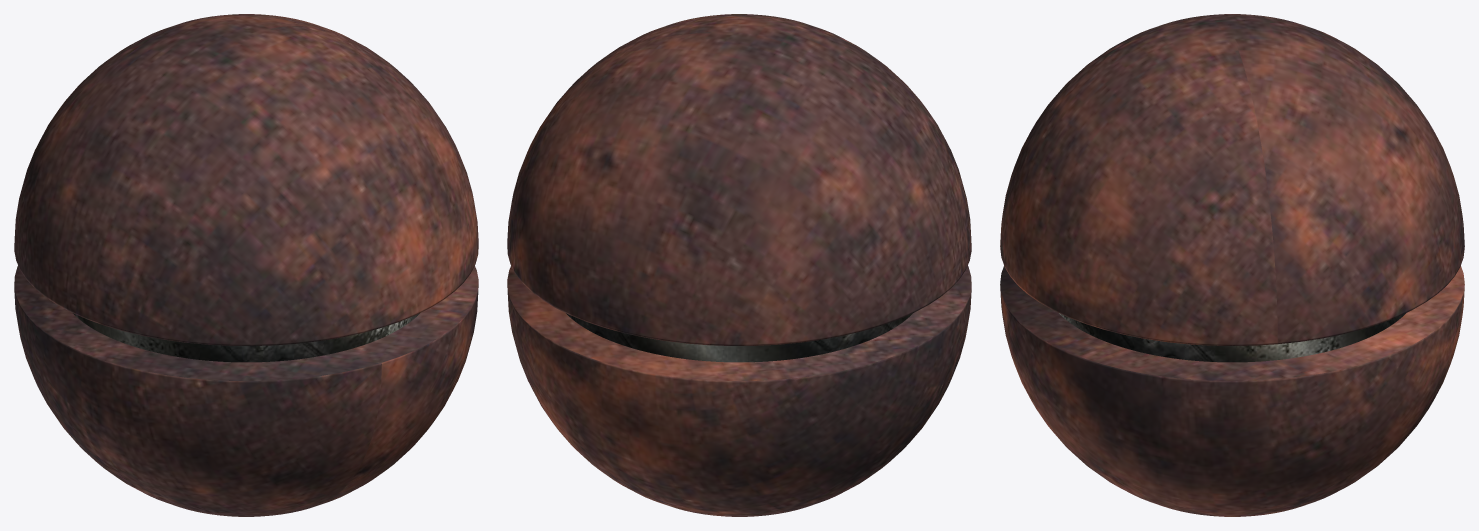
The model's file is droid_anim_000007.obj.
3 views of the same model, side by side, from view 1: azimuth 30°, elevation 25°; view 2: azimuth 150°, elevation 25°; view 3: azimuth 270°, elevation 25° (orthographic).
Visible parts, largest first — view 1: Sphere.004, Sphere.005, Cylinder.002; view 2: Sphere.004, Sphere.005, Cylinder.002; view 3: Sphere.004, Sphere.005, Cylinder.002.
Part boxes in pixels (bbox=[...]): Sphere.004: bbox=[14, 14, 478, 345]; Sphere.005: bbox=[14, 265, 478, 516]; Cylinder.002: bbox=[73, 313, 419, 362]; Sphere.004: bbox=[507, 14, 971, 345]; Sphere.005: bbox=[507, 265, 971, 516]; Cylinder.002: bbox=[566, 313, 912, 362]; Sphere.004: bbox=[1000, 14, 1464, 345]; Sphere.005: bbox=[1000, 266, 1464, 516]; Cylinder.002: bbox=[1059, 313, 1405, 362].
Size of the model in its own units: 2 by 2.18 by 2.
3 materials, 3 textured.
